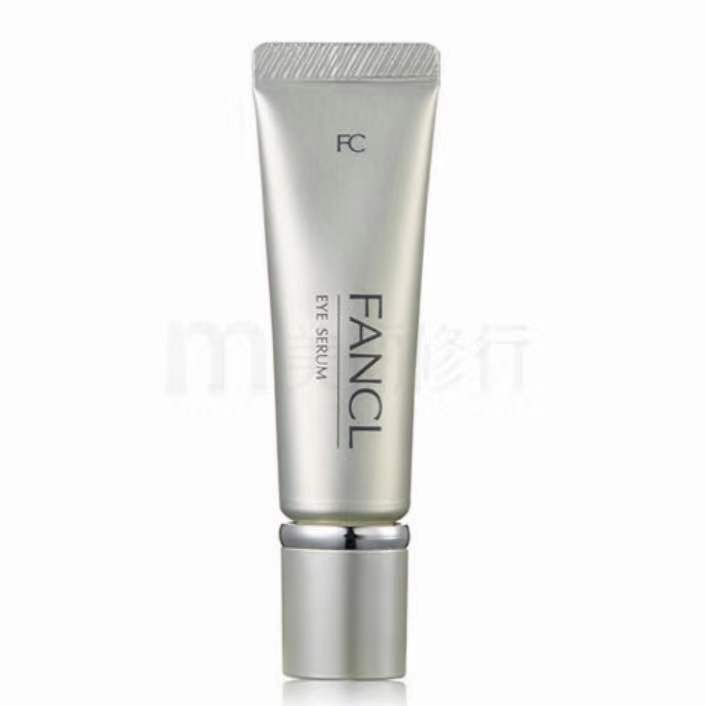cosmetic: (255, 39, 427, 682)
